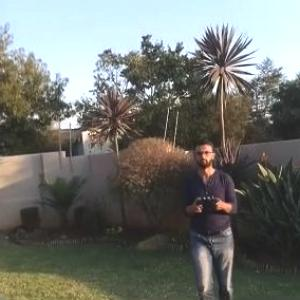follow: (178, 119, 242, 299)
